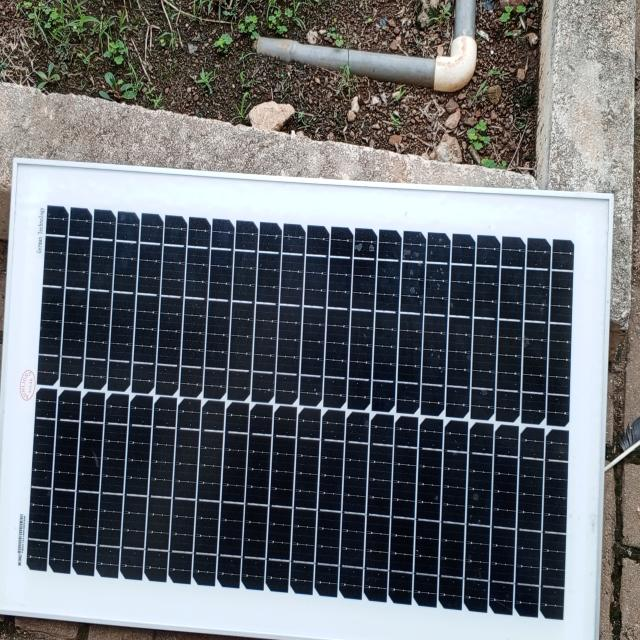Clean: (28, 179, 575, 614)
